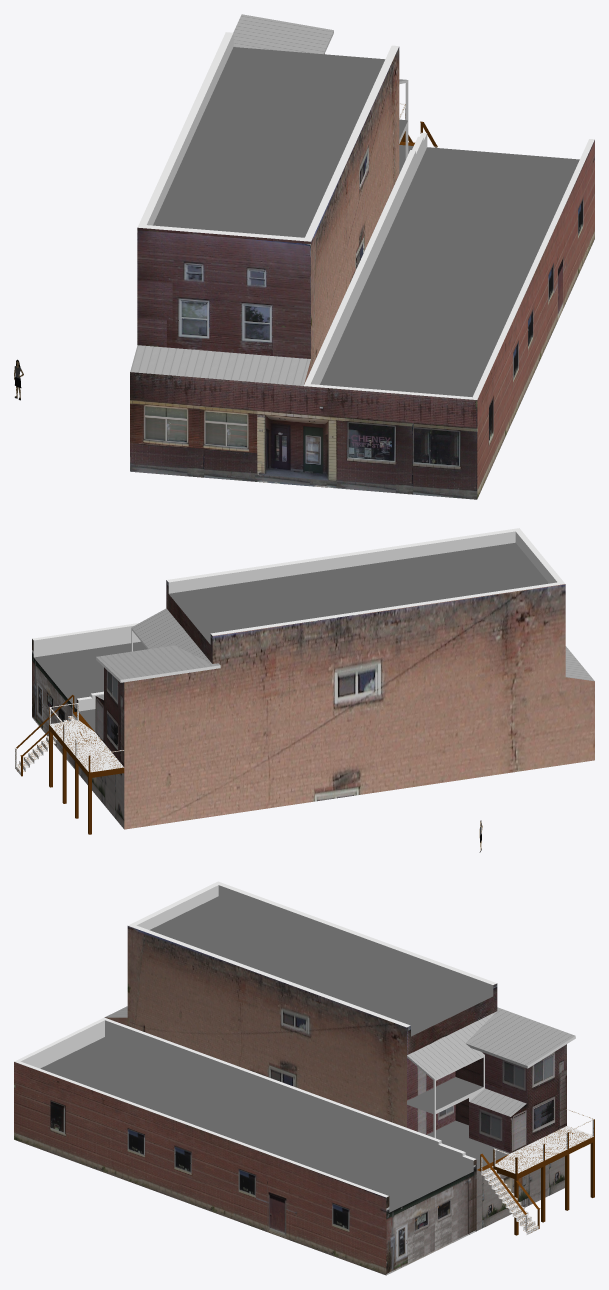
File: house3.dae
3 views of the same model, one above another, from view 1: azimuth 30°, elevation 25°; view 2: azimuth 150°, elevation 25°; view 3: azimuth 270°, elevation 25° (orthographic). The views are drawn at different scales.
Visible parts, largest first — view 1: Old_City_Hall_-_Downtown_Historic_District (×11); view 2: Old_City_Hall_-_Downtown_Historic_District (×15); view 3: Old_City_Hall_-_Downtown_Historic_District (×23).
Boxes of the visible parts, bbox=[...] form: Old_City_Hall_-_Downtown_Historic_District (×11): bbox=[130, 14, 594, 499]; Old_City_Hall_-_Downtown_Historic_District (×15): bbox=[14, 528, 594, 834]; Old_City_Hall_-_Downtown_Historic_District (×23): bbox=[14, 881, 594, 1275].
Bounding box in the file's own units: 1036 × 1134 × 427.
Materials: 25 (13 with a texture image).
